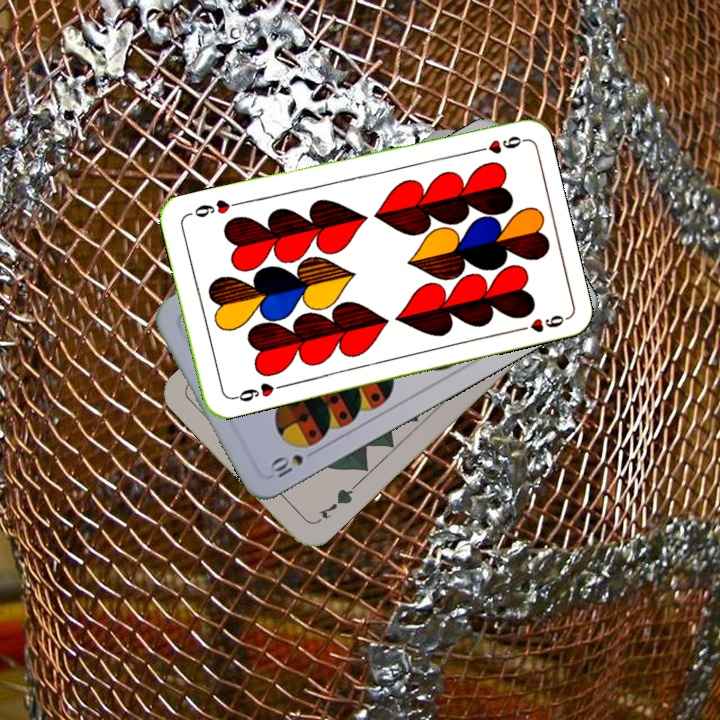G7: (311, 481, 358, 526)
H9: (227, 378, 286, 405), (467, 131, 525, 156)
S10: (265, 445, 321, 481)
